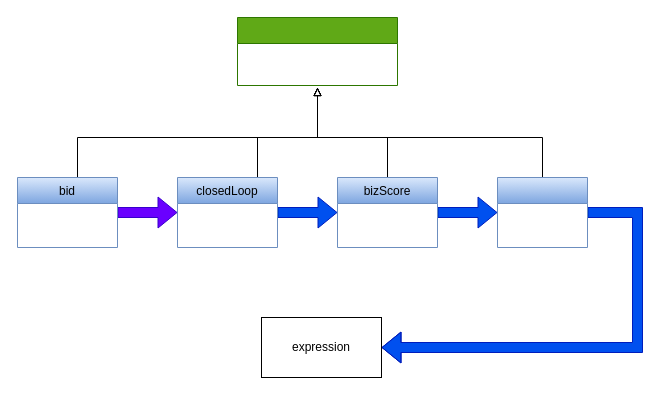
Image size: 660x395. Some labels were removed from this diagram. Here are the shapes that lost their labels. From the top down, the centre of each, then its label:
point (317, 51): factor
point (542, 212): opScore
